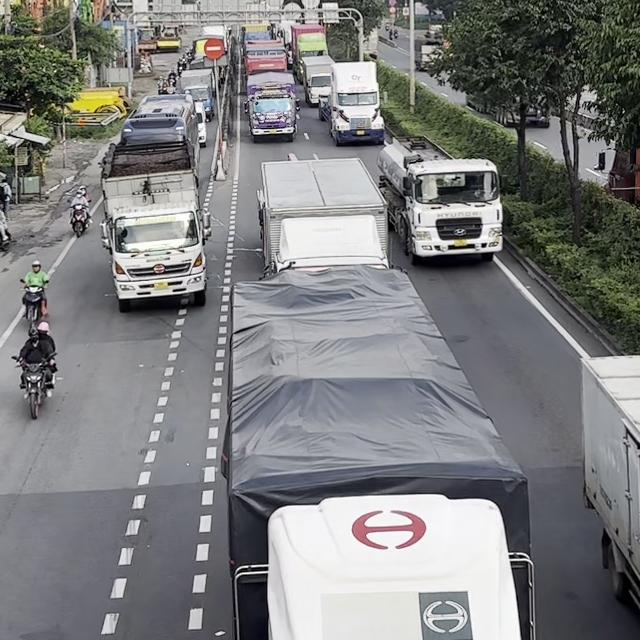bus: (121, 93, 204, 148)
motorcycle: (10, 351, 57, 419), (18, 278, 48, 336), (67, 198, 92, 238), (0, 209, 11, 252)
truck: (220, 265, 534, 639), (99, 144, 211, 311), (255, 153, 390, 279), (578, 353, 639, 626), (376, 133, 503, 264), (318, 60, 385, 146), (246, 70, 299, 143), (291, 25, 329, 85), (300, 54, 336, 107), (181, 68, 214, 121)
